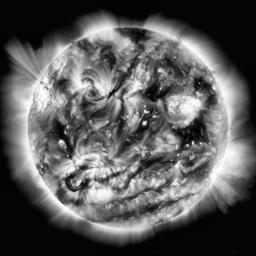solar flares: (167, 97, 201, 124), (59, 156, 99, 168), (32, 87, 53, 109), (88, 186, 113, 203), (73, 74, 87, 97), (98, 80, 113, 100)
sunspots: (53, 122, 75, 153), (142, 82, 169, 104), (178, 124, 208, 143), (196, 79, 217, 105), (121, 28, 145, 48), (136, 114, 151, 136), (140, 155, 165, 167)
